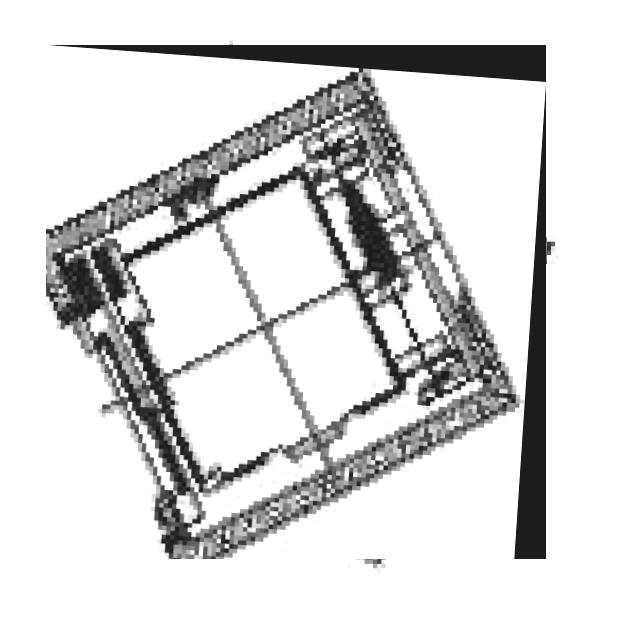lift: (46, 45, 546, 559)
